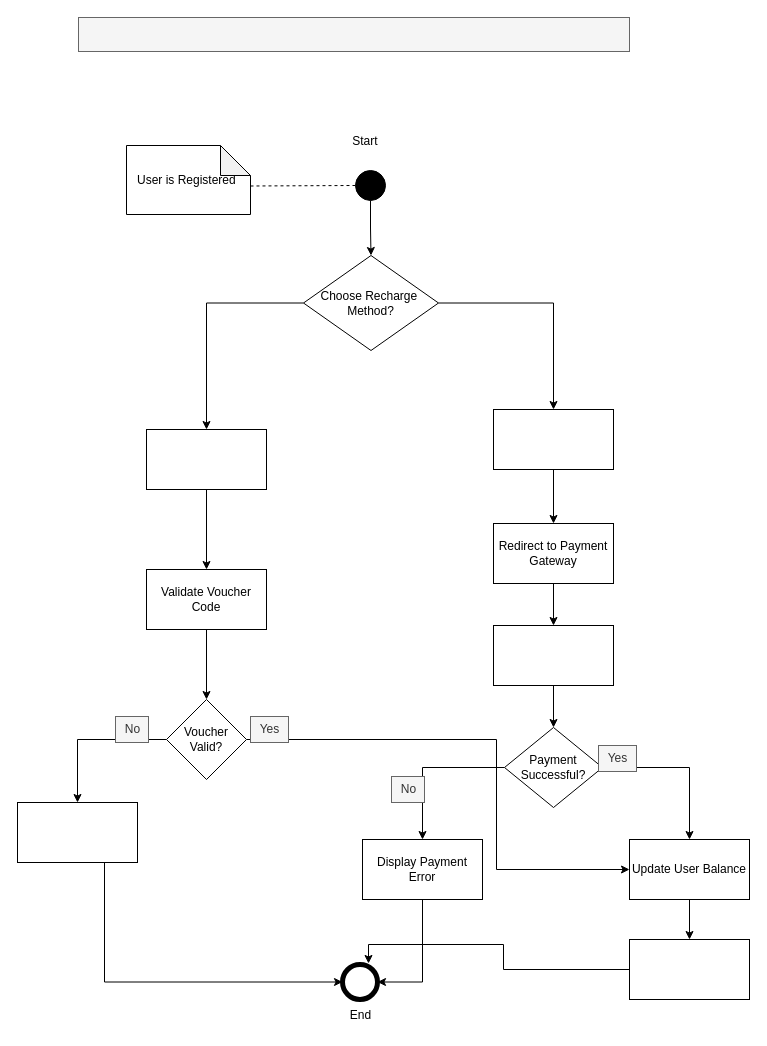
Image size: 767x1046. Some labels were removed from this diagram. The box of each missing label's shape, as (x1, y1, x2, y2) in pixels:
Activity Diagram for Recharge Prepaid Balance - QuickCharge App: (78, 16, 630, 52)
Display Voucher Error: (16, 802, 138, 862)
Enter Voucher Code: (146, 428, 266, 490)
Process Payment: (492, 624, 614, 686)
Record Transaction: (628, 938, 750, 1000)
Select Payment Method: (492, 408, 614, 470)
